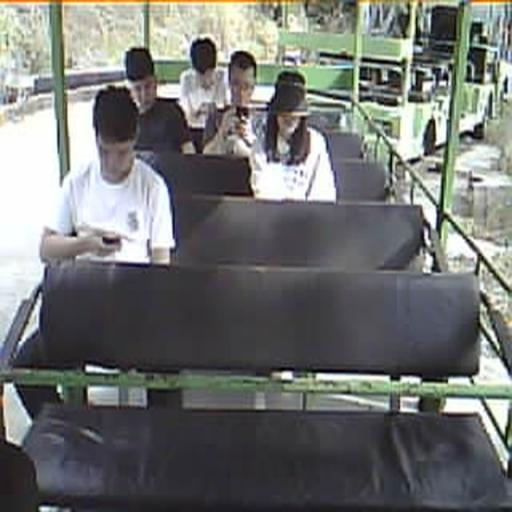persona: (39, 85, 177, 266), (248, 78, 338, 204), (122, 46, 197, 155), (201, 50, 268, 157), (178, 34, 230, 130)
